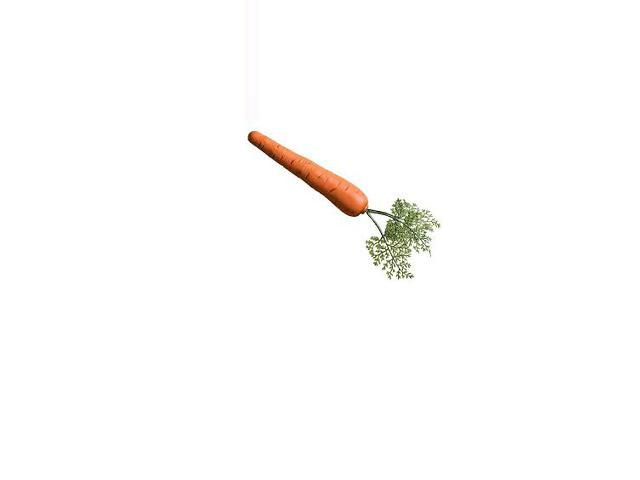carrot: (245, 128, 370, 218)
